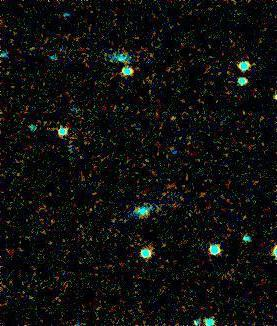star: (160, 99, 190, 129)
